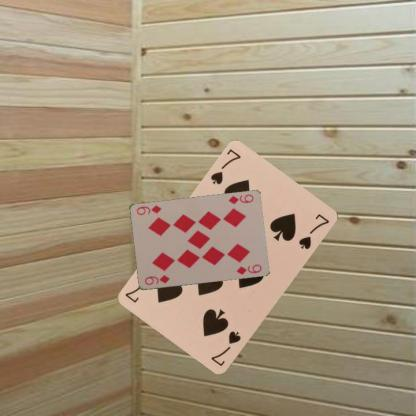7s: (208, 146, 242, 186), (208, 329, 242, 368)
9d: (225, 192, 255, 206), (142, 272, 171, 286)
